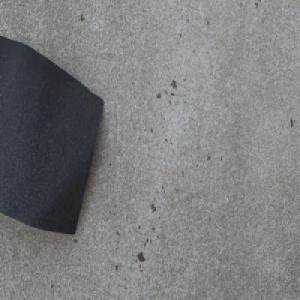PaintChip: (0, 34, 104, 236)
